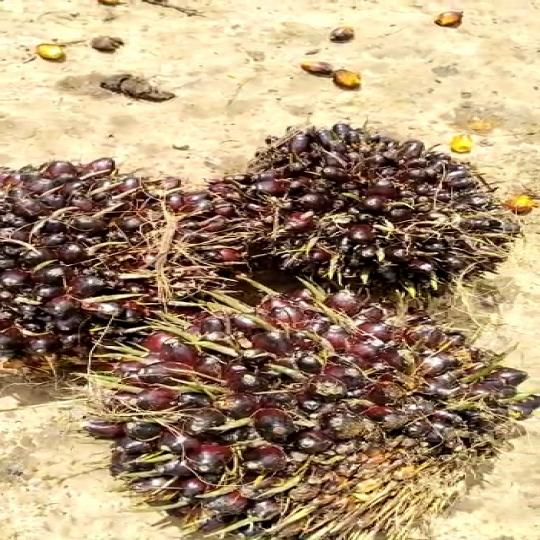mentah: (90, 297, 540, 530), (228, 114, 526, 304), (0, 147, 217, 390)
